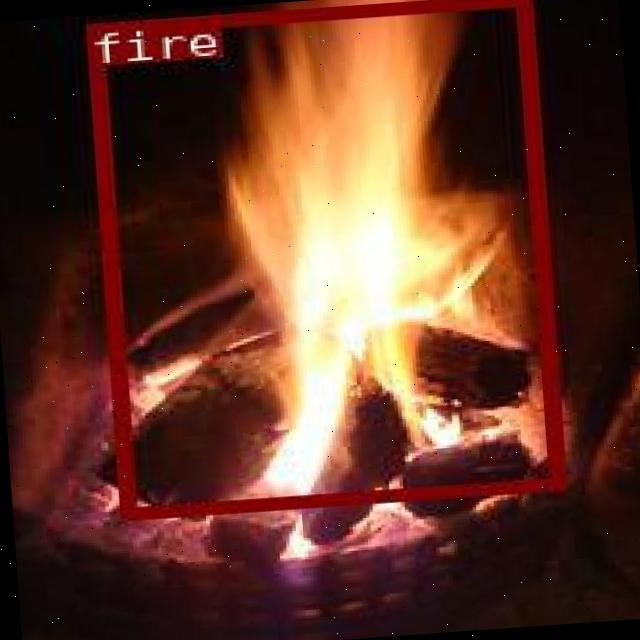fire: (83, 0, 560, 517)
